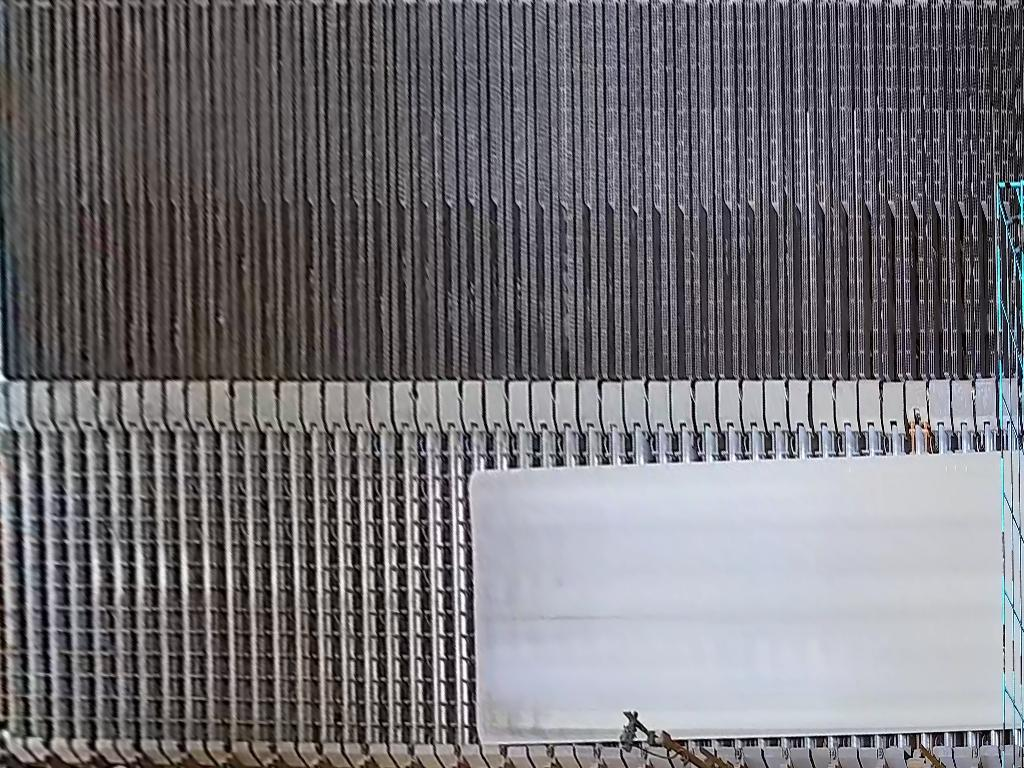steel: (469, 450, 1024, 746)
